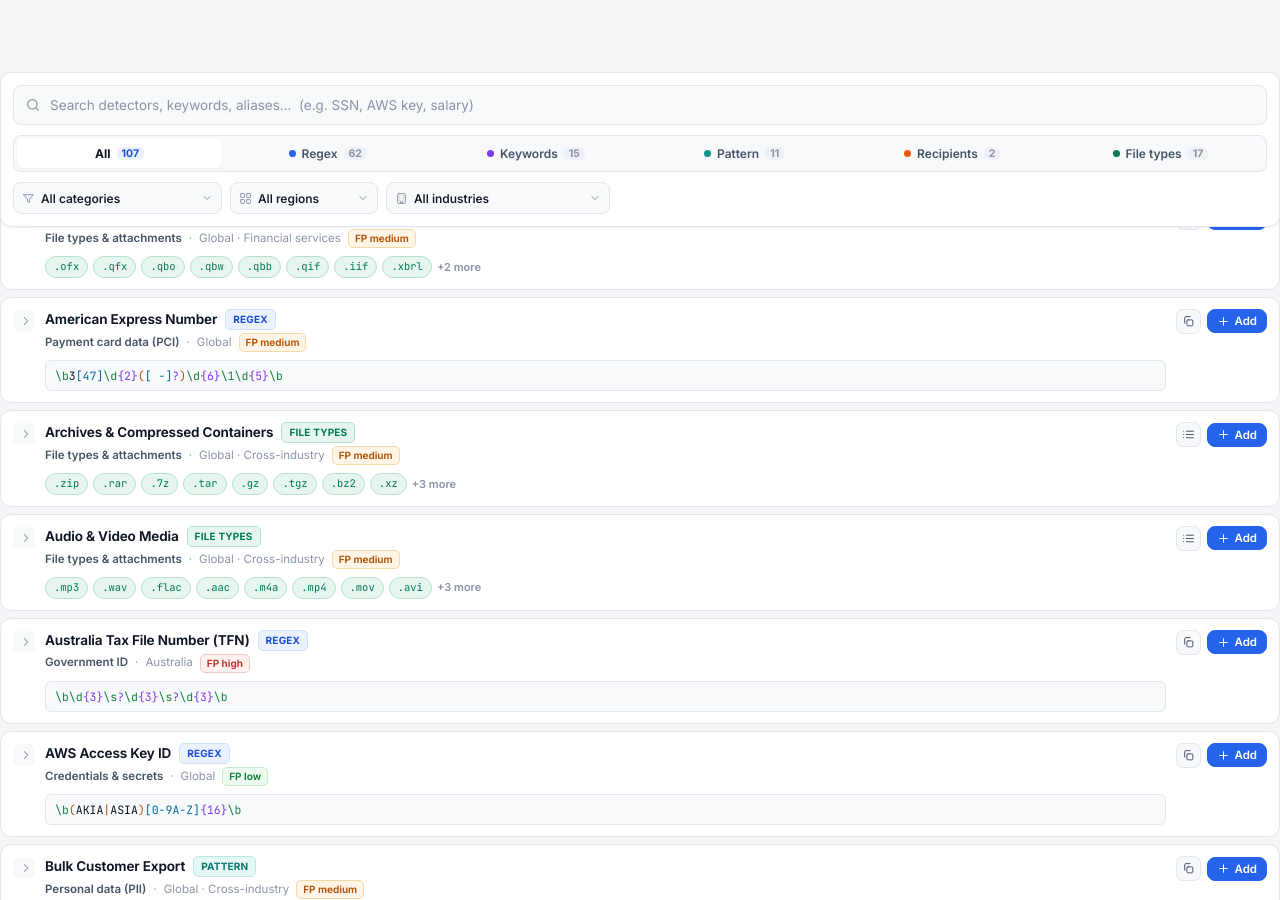
Test case: LibraryPanel filtering › filters by type tab
The image size is (1280, 900).
Click the button "Keywords 15" at (536, 154), box x1=433 y1=139 x2=638 y2=168
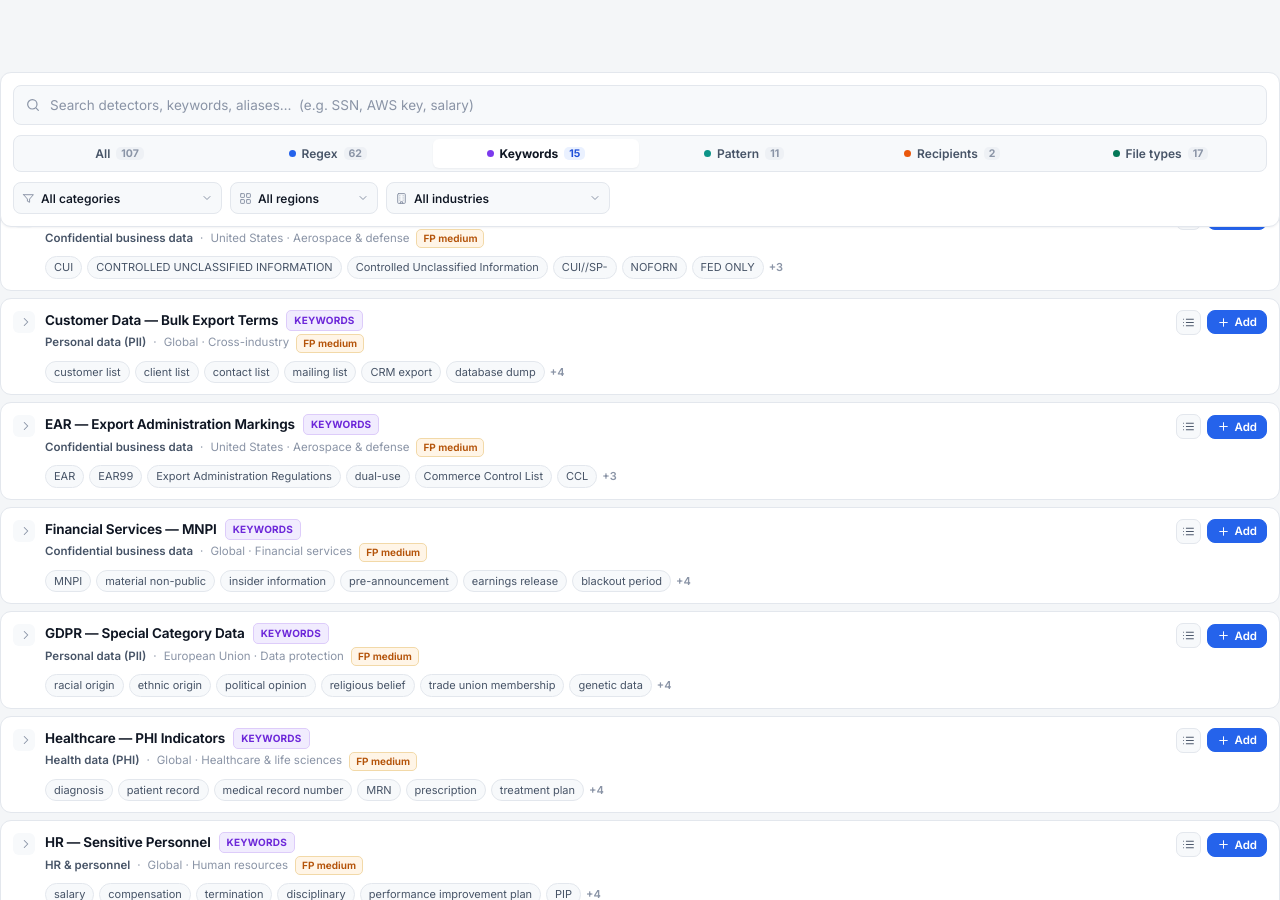
Expected: the element with class "lib-count" reads "15 of 107 detectors", x1=4 y1=168 x2=111 y2=183
Expected: the number of elements with class "lib-row" is 15
